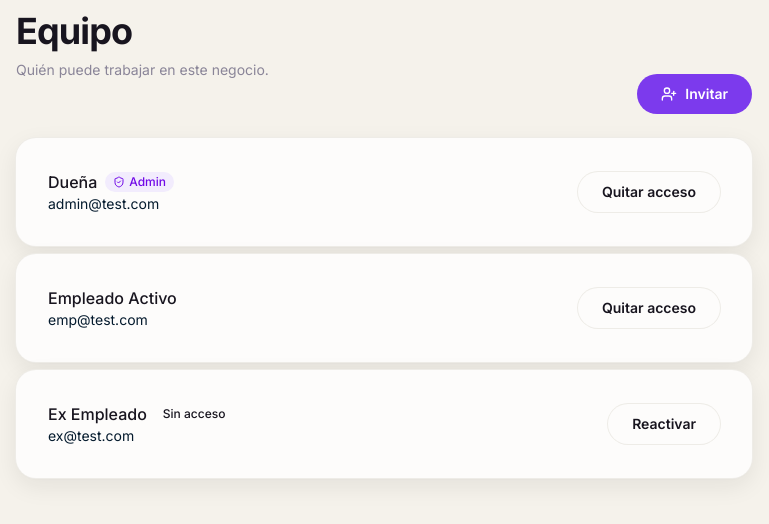
Test case: EquipoPage — quitar y devolver acceso › pide confirmación y aclara que los registros se conservan
Expected: the text "Empleado Activo" is shown, [48, 286, 177, 310]
Click the button "Quitar acceso" in the row of "admin@test.com": (649, 192) [578, 172, 720, 212]
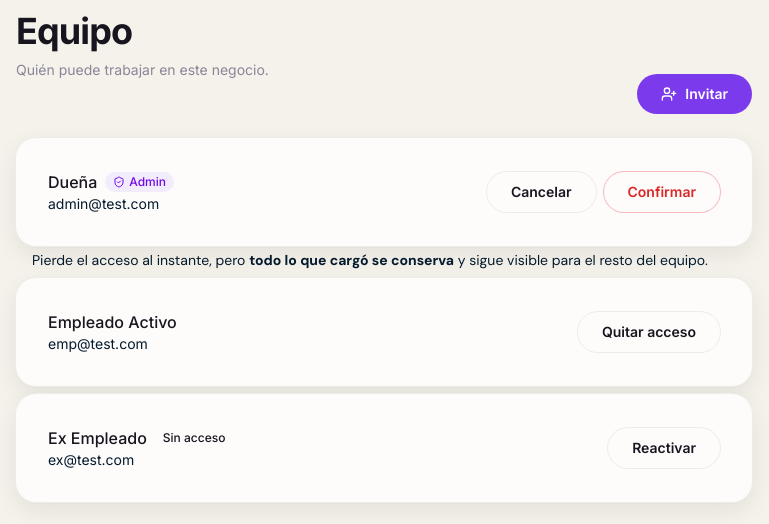
Now the text "todo lo que cargó se conserva" is shown, box [249, 251, 454, 269]
Now the button "Confirmar" is shown, box [604, 172, 720, 212]
